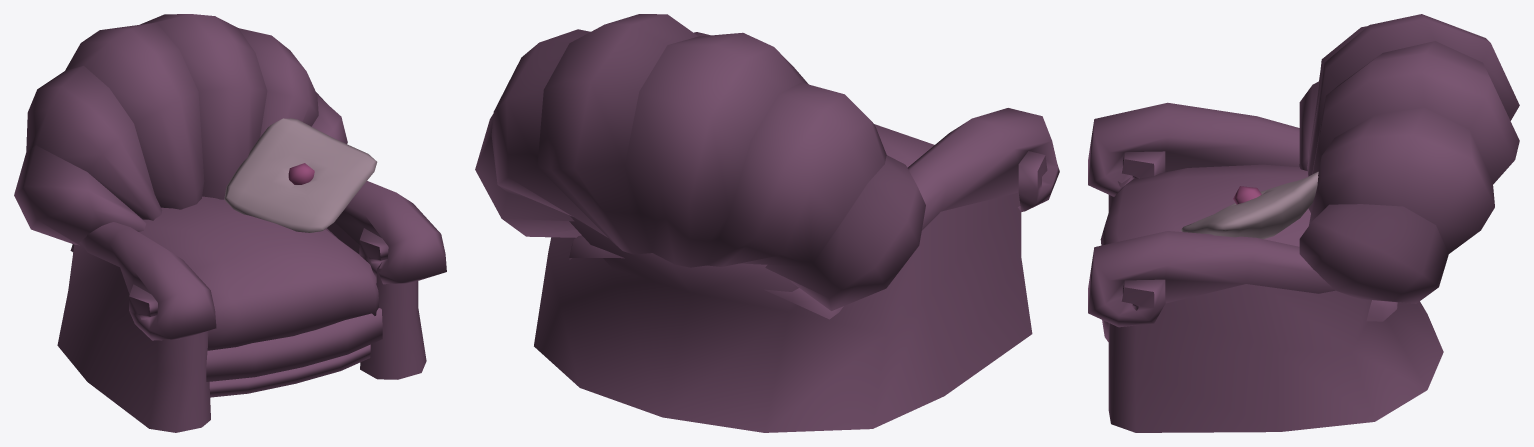
The model's file is couch4.gltf.
3 renders of one model, left to right at view 1: azimuth 30°, elevation 25°; view 2: azimuth 150°, elevation 25°; view 3: azimuth 270°, elevation 25°, orthographic. The views are drawn at different scales.
Parts seen in each view (by area): view 1: Circle, Cylinder, Cube.026, Cylinder.001, Cube.027; view 2: Circle, Cylinder, Cylinder.001, Cube.026; view 3: Circle, Cylinder, Cylinder.001, Cube.026, Cube.027.
Boxes of the visible parts, x1,y1,x2,y2 form: Circle: (14,14,347,245); Cylinder: (57,222,426,432); Cube.026: (70,196,378,350); Cylinder.001: (81,181,446,340); Cube.027: (224,118,377,232); Circle: (475,14,925,310); Cylinder: (534,192,1032,432); Cylinder.001: (694,32,1059,230); Cube.026: (569,124,934,319); Circle: (1299,14,1519,303); Cylinder: (1102,177,1443,432); Cylinder.001: (1088,102,1335,327); Cube.026: (1100,164,1397,321); Cube.027: (1180,171,1318,238).
Bounding box in the file's own units: 1.03 × 0.8942 × 1.09.
